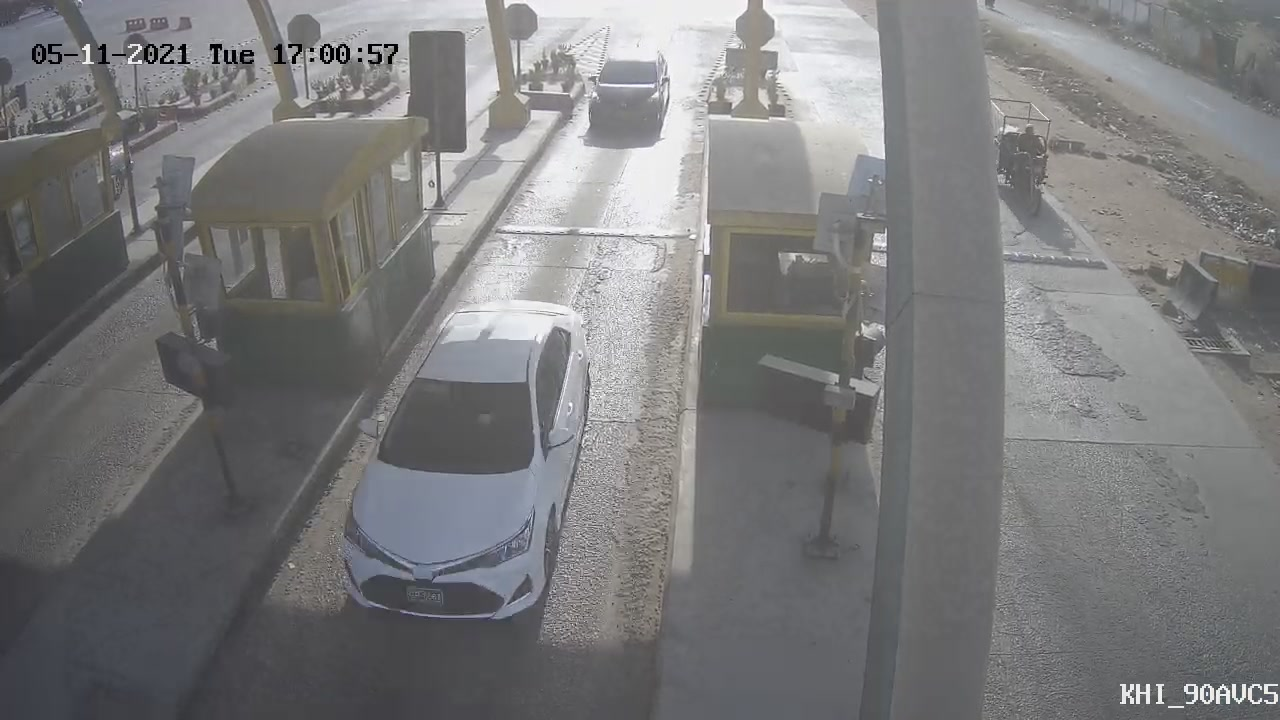F1: (570, 29, 683, 160)
